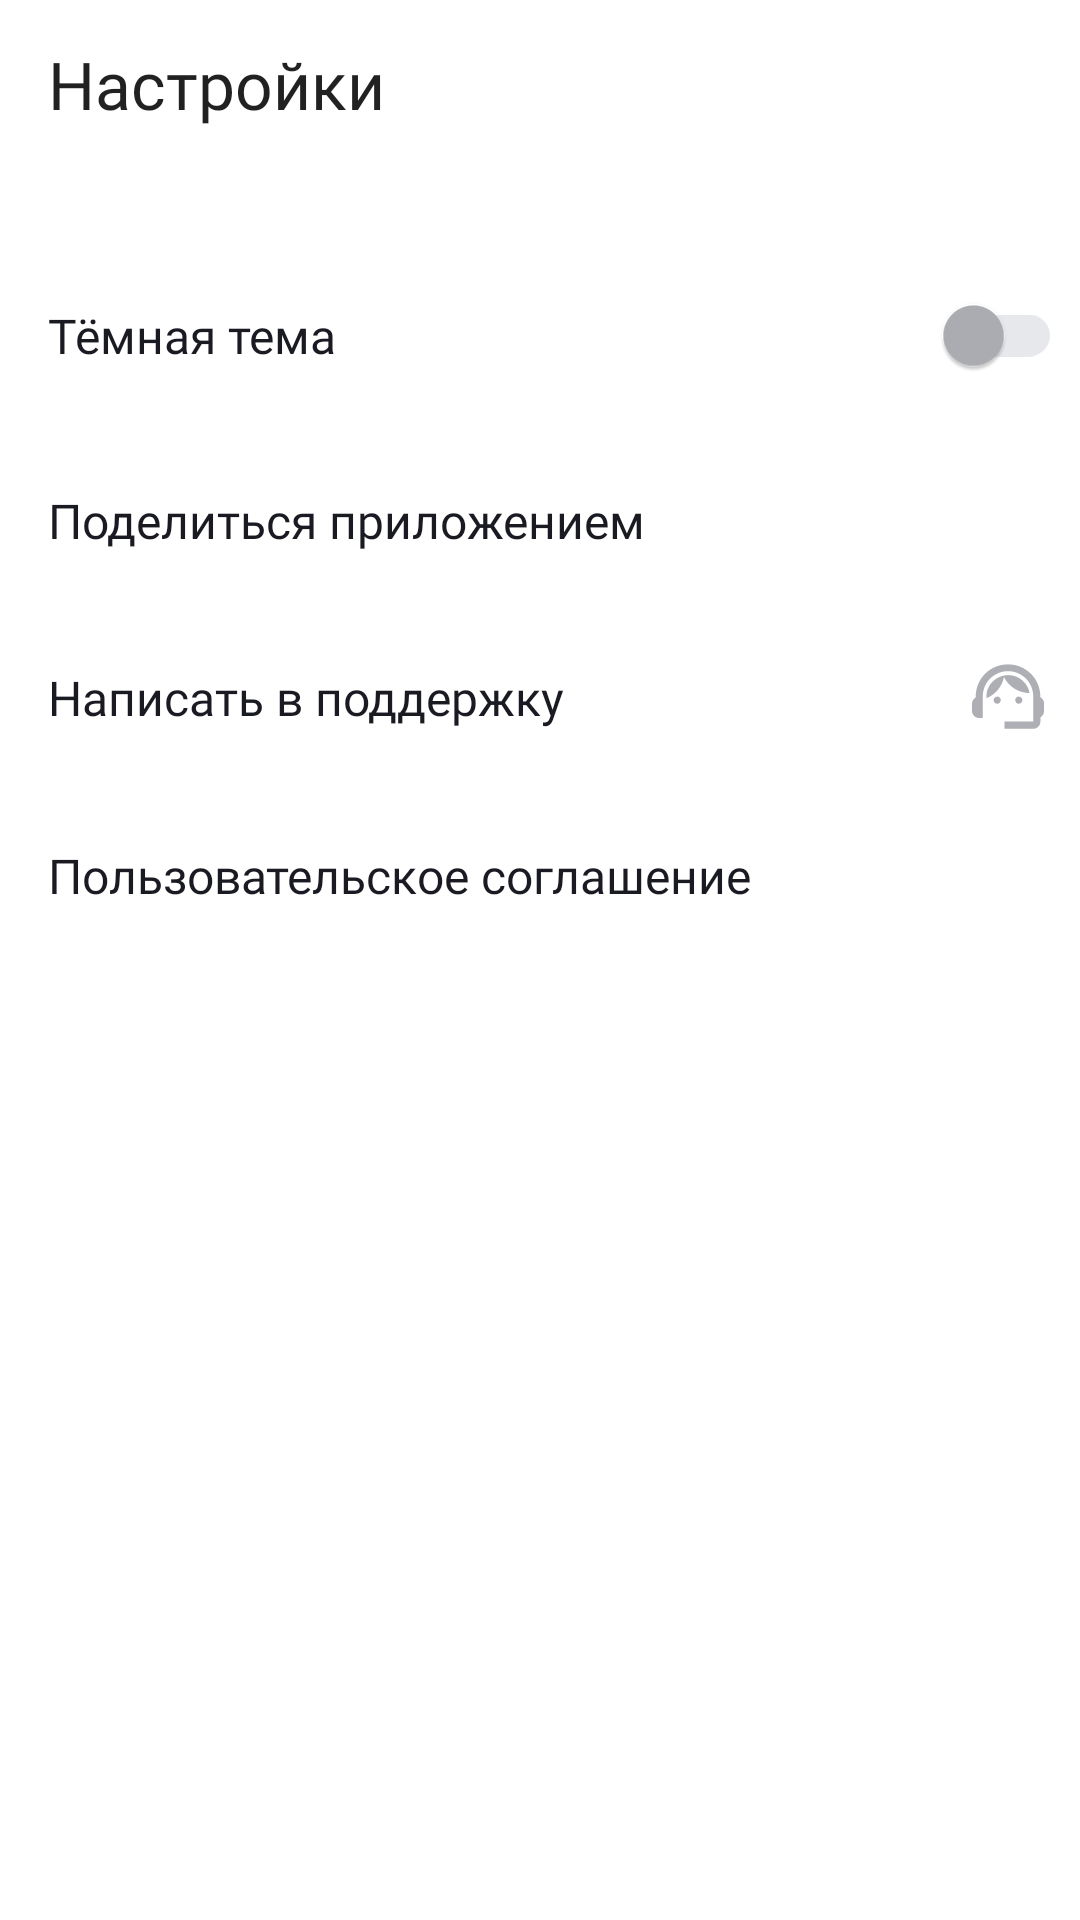

Where icons sit on this 1080 x 1920 app screen, as (x1, y1, x2, y2):
support: (972, 664, 1044, 729)
